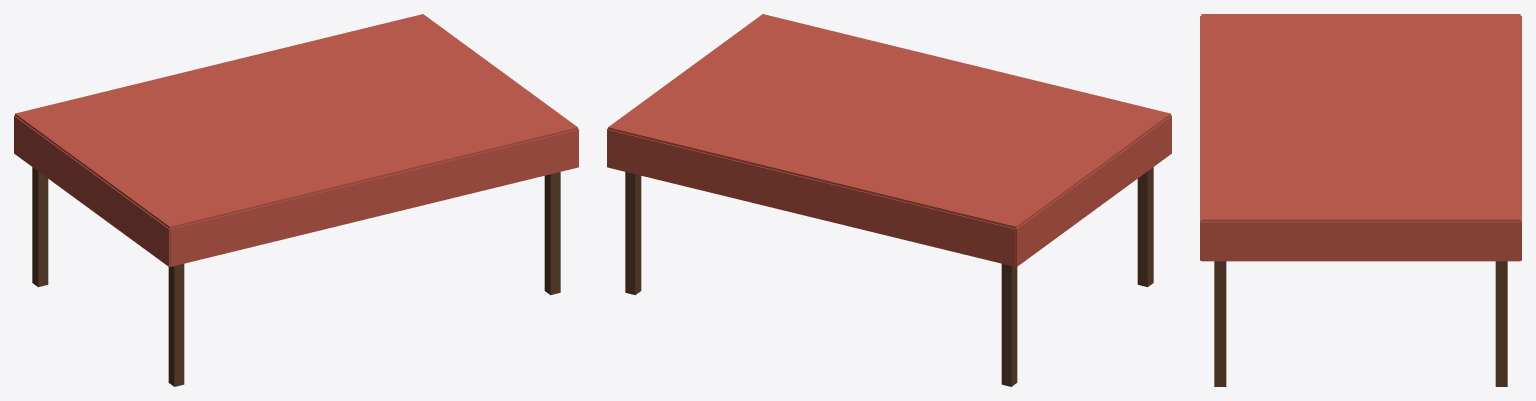
The model's file is table_kitchen.fbx.
3 views of the same model, side by side, from view 1: azimuth 30°, elevation 25°; view 2: azimuth 150°, elevation 25°; view 3: azimuth 270°, elevation 25° (orthographic). The views are drawn at different scales.
Parts seen in each view (by area): view 1: tablecloth, table_kitchen; view 2: tablecloth, table_kitchen; view 3: tablecloth, table_kitchen.
Boxes of the visible parts, left/top/right/bottom form: tablecloth: left=14, top=14, right=578, bottom=266; table_kitchen: left=32, top=167, right=560, bottom=386; tablecloth: left=607, top=14, right=1171, bottom=266; table_kitchen: left=625, top=167, right=1153, bottom=386; tablecloth: left=1200, top=14, right=1521, bottom=261; table_kitchen: left=1214, top=261, right=1507, bottom=386.
Bounding box in the file's own units: 2.05 × 0.8 × 1.35.
